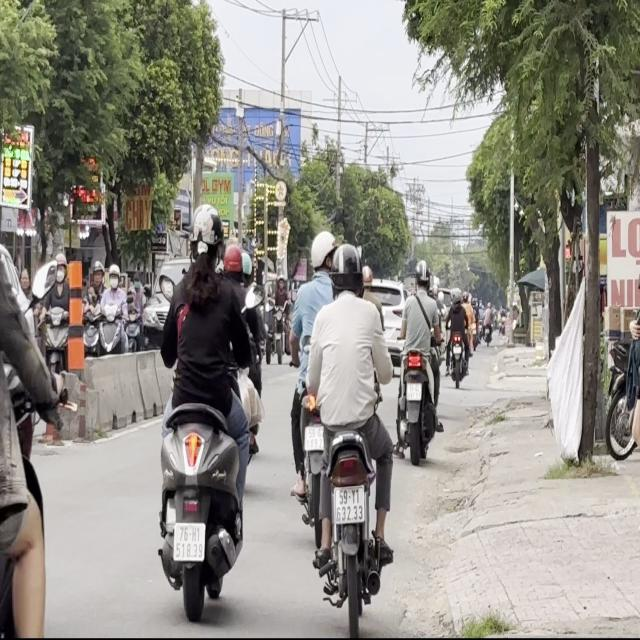helmet: (188, 203, 225, 265), (329, 241, 362, 298), (309, 229, 336, 274), (222, 242, 242, 277), (414, 258, 430, 288), (360, 262, 372, 290)
licenseplate: (150, 194, 262, 616), (286, 232, 399, 624), (286, 228, 336, 538), (394, 256, 442, 462)
nohelmet: (333, 486, 364, 523), (174, 522, 204, 559), (304, 425, 324, 449), (406, 382, 421, 401)
